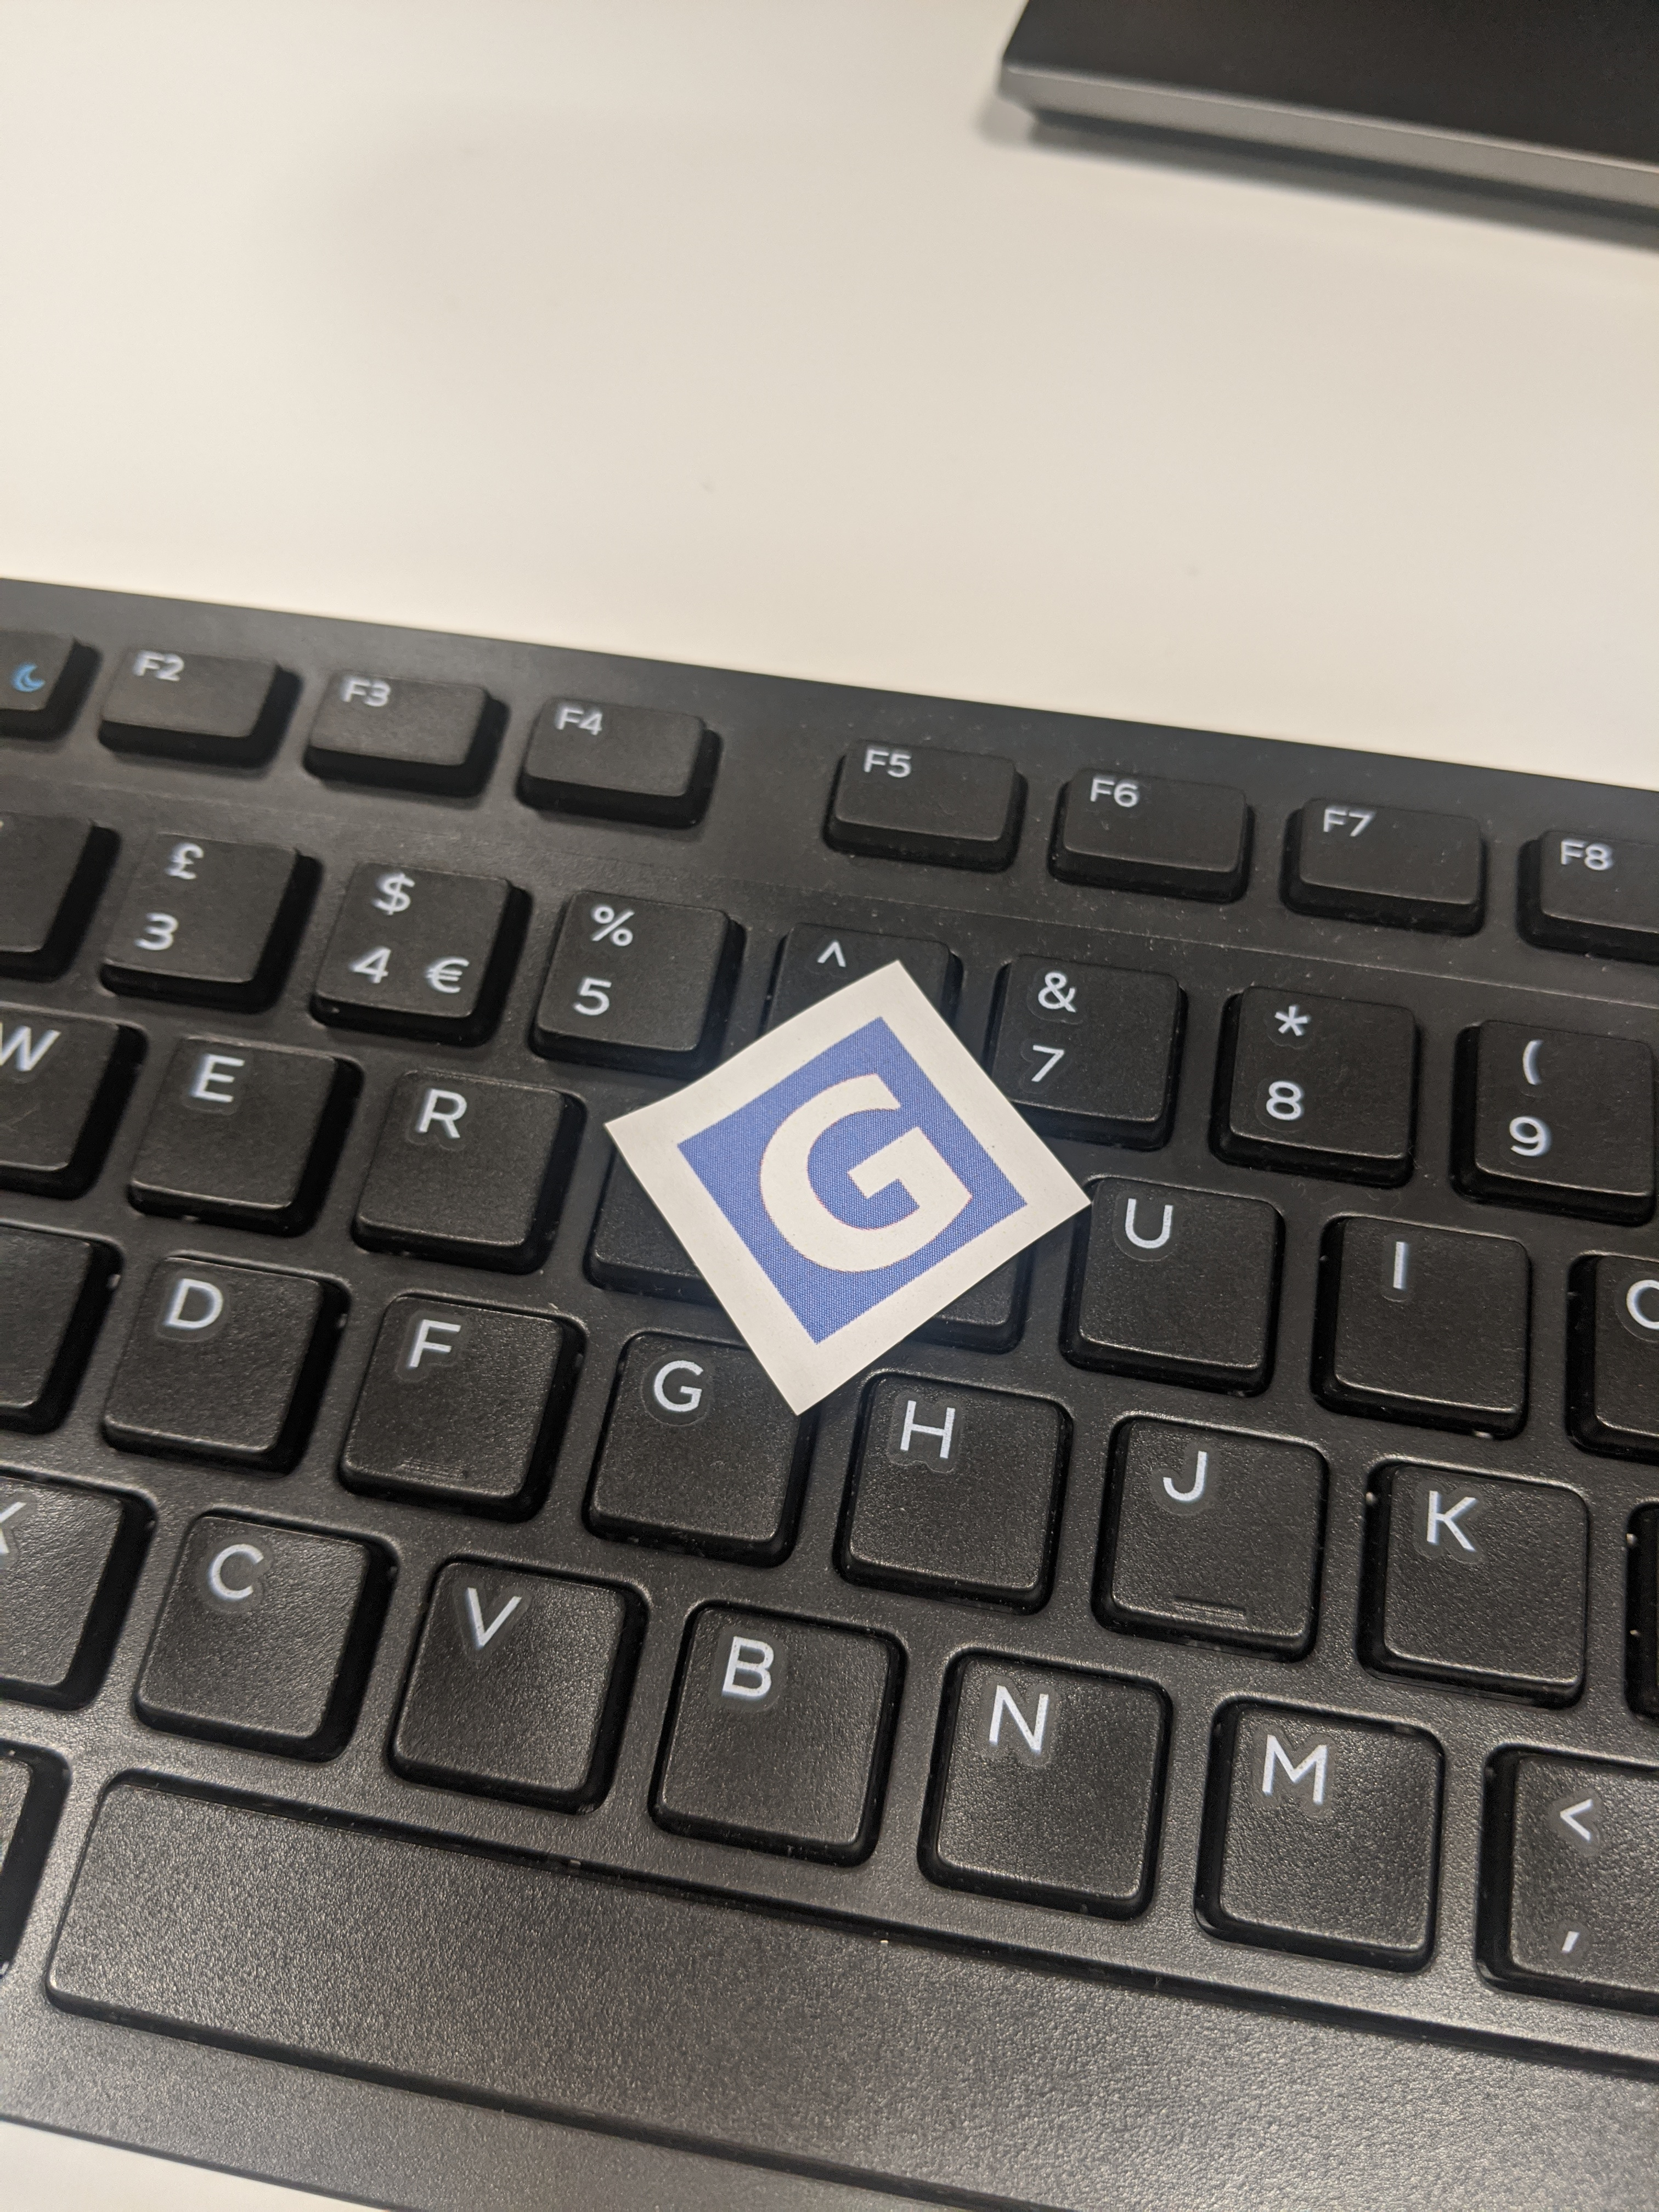marker: (594, 958, 1098, 1425)
